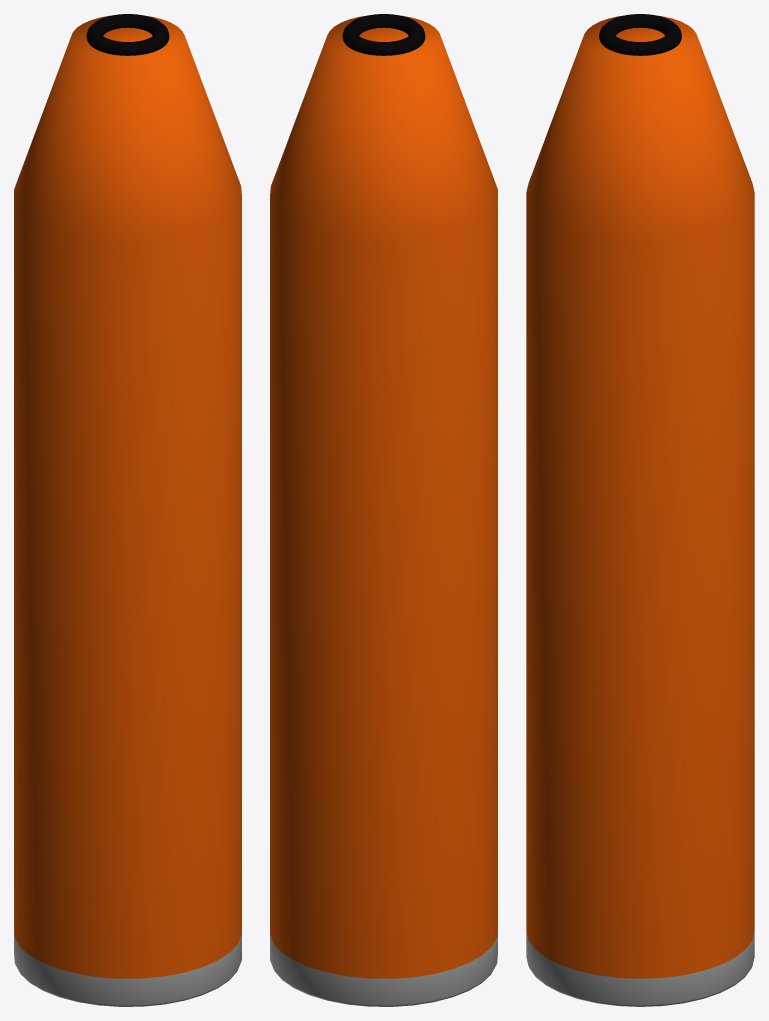
The model's file is wechselsprechsonde.fbx.
3 views of the same model, side by side, from view 1: azimuth 30°, elevation 25°; view 2: azimuth 150°, elevation 25°; view 3: azimuth 270°, elevation 25° (orthographic).
Parts seen in each view (by area): view 1: Cylinder, Torus; view 2: Cylinder, Torus; view 3: Cylinder, Torus.
Boxes of the visible parts, left/top/right/bottom form: Cylinder: left=14, top=15, right=241, bottom=1006; Torus: left=86, top=14, right=169, bottom=55; Cylinder: left=270, top=15, right=497, bottom=1006; Torus: left=342, top=14, right=425, bottom=55; Cylinder: left=526, top=15, right=754, bottom=1006; Torus: left=599, top=14, right=681, bottom=55.
Bounding box in the file's own units: 200 × 900 × 200.
